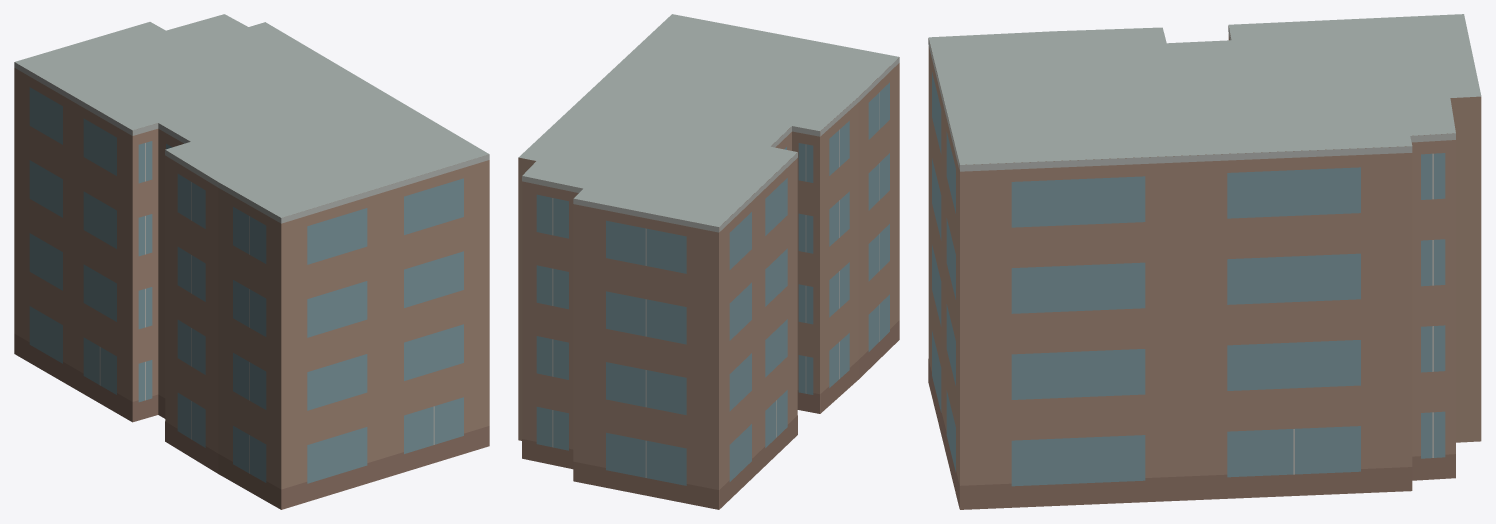
The model's file is survey-upis-32662720.glb.
3 renders of one model, left to right at view 1: azimuth 30°, elevation 25°; view 2: azimuth 150°, elevation 25°; view 3: azimuth 270°, elevation 25°, orthographic. The views are drawn at different scales.
Parts seen in each view (by area): view 1: survey-upis-32662720.tmp; view 2: survey-upis-32662720.tmp; view 3: survey-upis-32662720.tmp.
Boxes of the visible parts, x1,y1,x2,y2 form: survey-upis-32662720.tmp: (14,14,489,509); survey-upis-32662720.tmp: (518,14,899,509); survey-upis-32662720.tmp: (928,14,1481,509).
Size of the model in its own units: 11.84 by 12.6 by 18.32.
